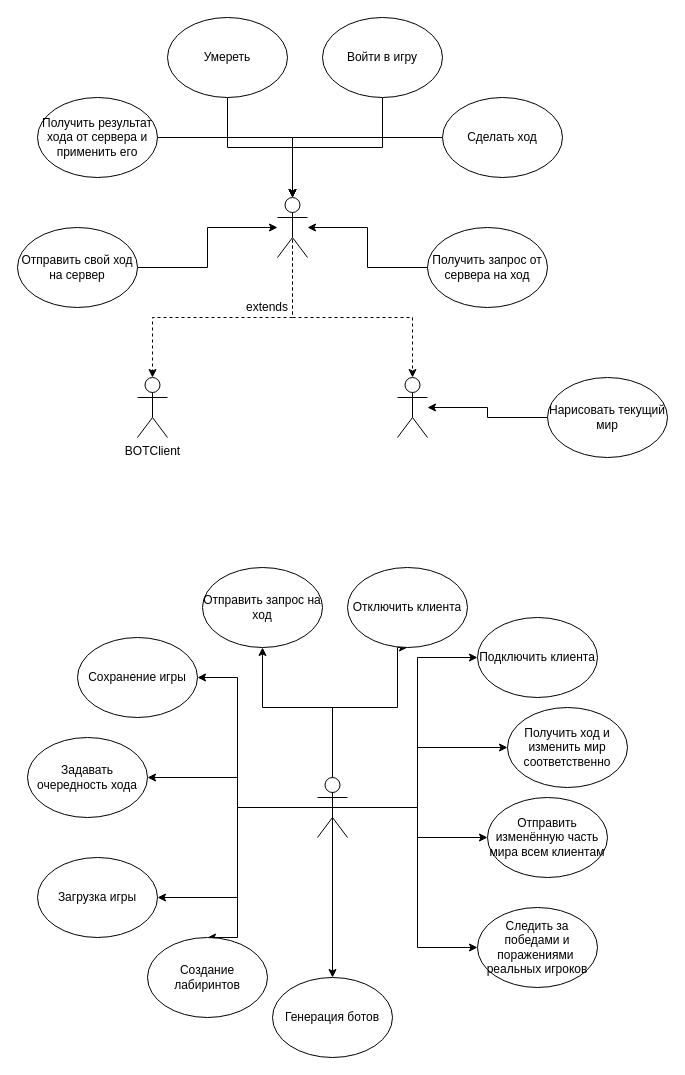
Image size: 685x1075. Some labels were removed from this diagram. Here are the shapes that lost their labels. From the top down, the centre of each, then its label:
At pixel 292 227: "Client".
At pixel 412 407: "REALClient".
At pixel 332 807: "Server".
